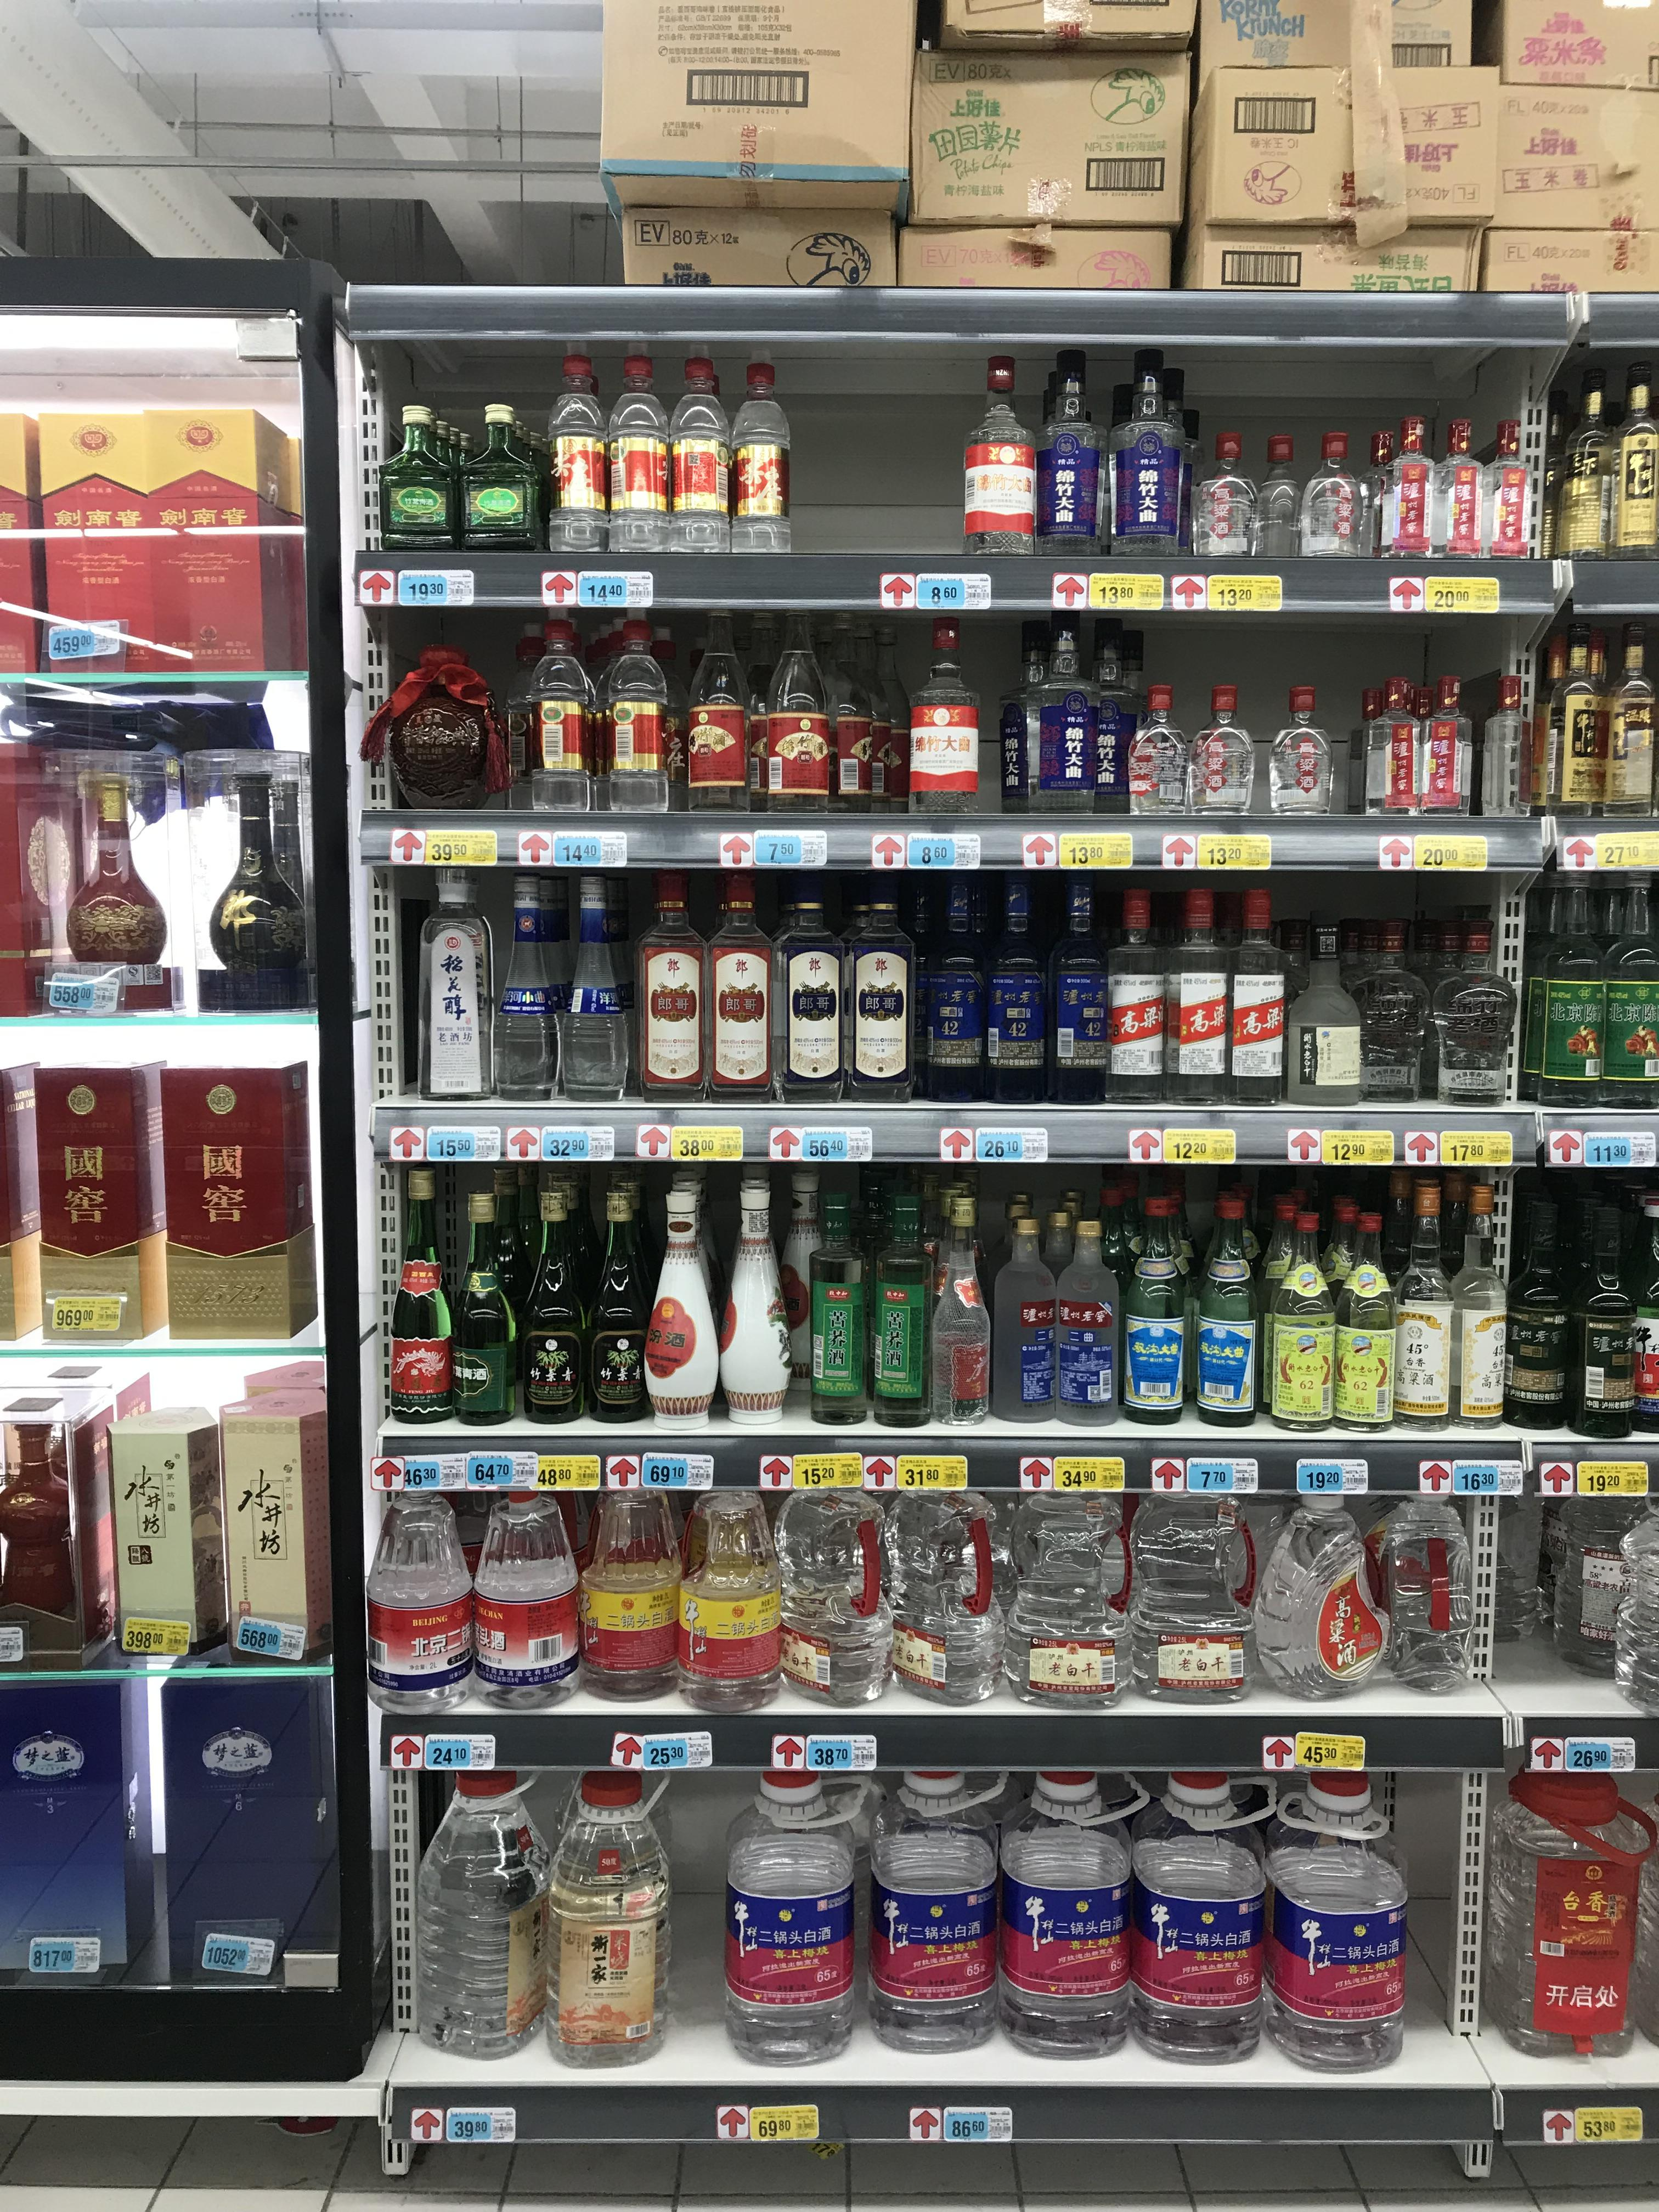bag: (1119, 1489, 1251, 1703), (772, 1486, 897, 1709)
bottle: (35, 740, 183, 1022), (416, 1764, 551, 2066), (547, 1768, 664, 2067), (193, 752, 310, 1021), (1002, 1486, 1129, 1709), (884, 1489, 1002, 1705), (469, 1482, 579, 1710), (673, 1484, 782, 1709), (359, 1487, 465, 1716), (1486, 1163, 1574, 1428), (373, 644, 495, 824), (1520, 852, 1603, 1111), (584, 1484, 680, 1709), (408, 862, 491, 1103), (1011, 606, 1107, 815), (1565, 1167, 1638, 1435), (437, 1188, 518, 1430), (516, 1177, 594, 1425), (580, 1179, 660, 1420), (552, 867, 633, 1106), (1582, 860, 1656, 1118), (380, 1169, 451, 1428), (800, 1176, 875, 1423), (718, 1181, 795, 1421), (640, 1184, 714, 1426), (1387, 1170, 1457, 1430), (631, 871, 706, 1106), (918, 857, 988, 1108), (920, 1186, 992, 1426), (704, 867, 775, 1106), (842, 871, 913, 1108), (514, 611, 596, 817), (490, 862, 559, 1103), (866, 1188, 936, 1426), (751, 611, 830, 820), (983, 869, 1051, 1109), (1262, 1204, 1333, 1432), (1446, 1179, 1511, 1430), (1105, 345, 1182, 556), (1425, 921, 1513, 1106), (903, 618, 983, 819), (1046, 867, 1112, 1106), (1190, 1202, 1260, 1428), (775, 874, 843, 1106), (1324, 1205, 1392, 1433), (1100, 880, 1166, 1111), (596, 608, 669, 817), (1164, 881, 1230, 1111), (1338, 923, 1424, 1101), (993, 1211, 1065, 1420), (1033, 345, 1103, 559), (1119, 1212, 1188, 1425), (965, 352, 1037, 552), (605, 343, 671, 557), (1223, 885, 1286, 1109), (1047, 1214, 1115, 1420), (683, 606, 748, 817), (666, 345, 730, 554), (833, 611, 897, 819), (1288, 913, 1356, 1106), (1542, 613, 1605, 822), (545, 348, 606, 559), (1075, 629, 1145, 812), (460, 399, 540, 552), (1596, 620, 1657, 820), (732, 355, 795, 547), (380, 404, 457, 554), (1558, 376, 1619, 564), (1267, 683, 1342, 827), (1366, 676, 1438, 824), (1188, 428, 1269, 557), (1190, 685, 1260, 831), (1474, 658, 1530, 819), (1127, 683, 1190, 822), (1610, 378, 1657, 563), (1300, 428, 1364, 559), (1377, 418, 1436, 559), (1486, 420, 1541, 564), (1445, 672, 1497, 820), (1438, 420, 1486, 561), (1251, 430, 1304, 557)
box: (162, 1676, 342, 1994), (2, 1679, 152, 1989), (0, 1061, 136, 1346), (214, 1395, 340, 1665), (2, 1385, 117, 1676), (108, 1409, 209, 1662), (1190, 225, 1481, 300), (901, 225, 1180, 291), (1485, 228, 1635, 303), (0, 418, 45, 563)
bucket: (1265, 1770, 1408, 2067), (854, 1768, 999, 2054), (1126, 1771, 1267, 2062), (995, 1768, 1133, 2059), (723, 1766, 854, 2064), (1249, 1484, 1387, 1700), (1534, 1498, 1656, 1686), (1380, 1496, 1478, 1693)
others: (30, 404, 308, 683), (1182, 0, 1493, 228), (596, 0, 943, 185), (119, 1054, 321, 1339), (899, 49, 1176, 223), (1480, 1766, 1642, 2055), (605, 172, 908, 317), (1486, 78, 1657, 226), (1481, 0, 1656, 99)
